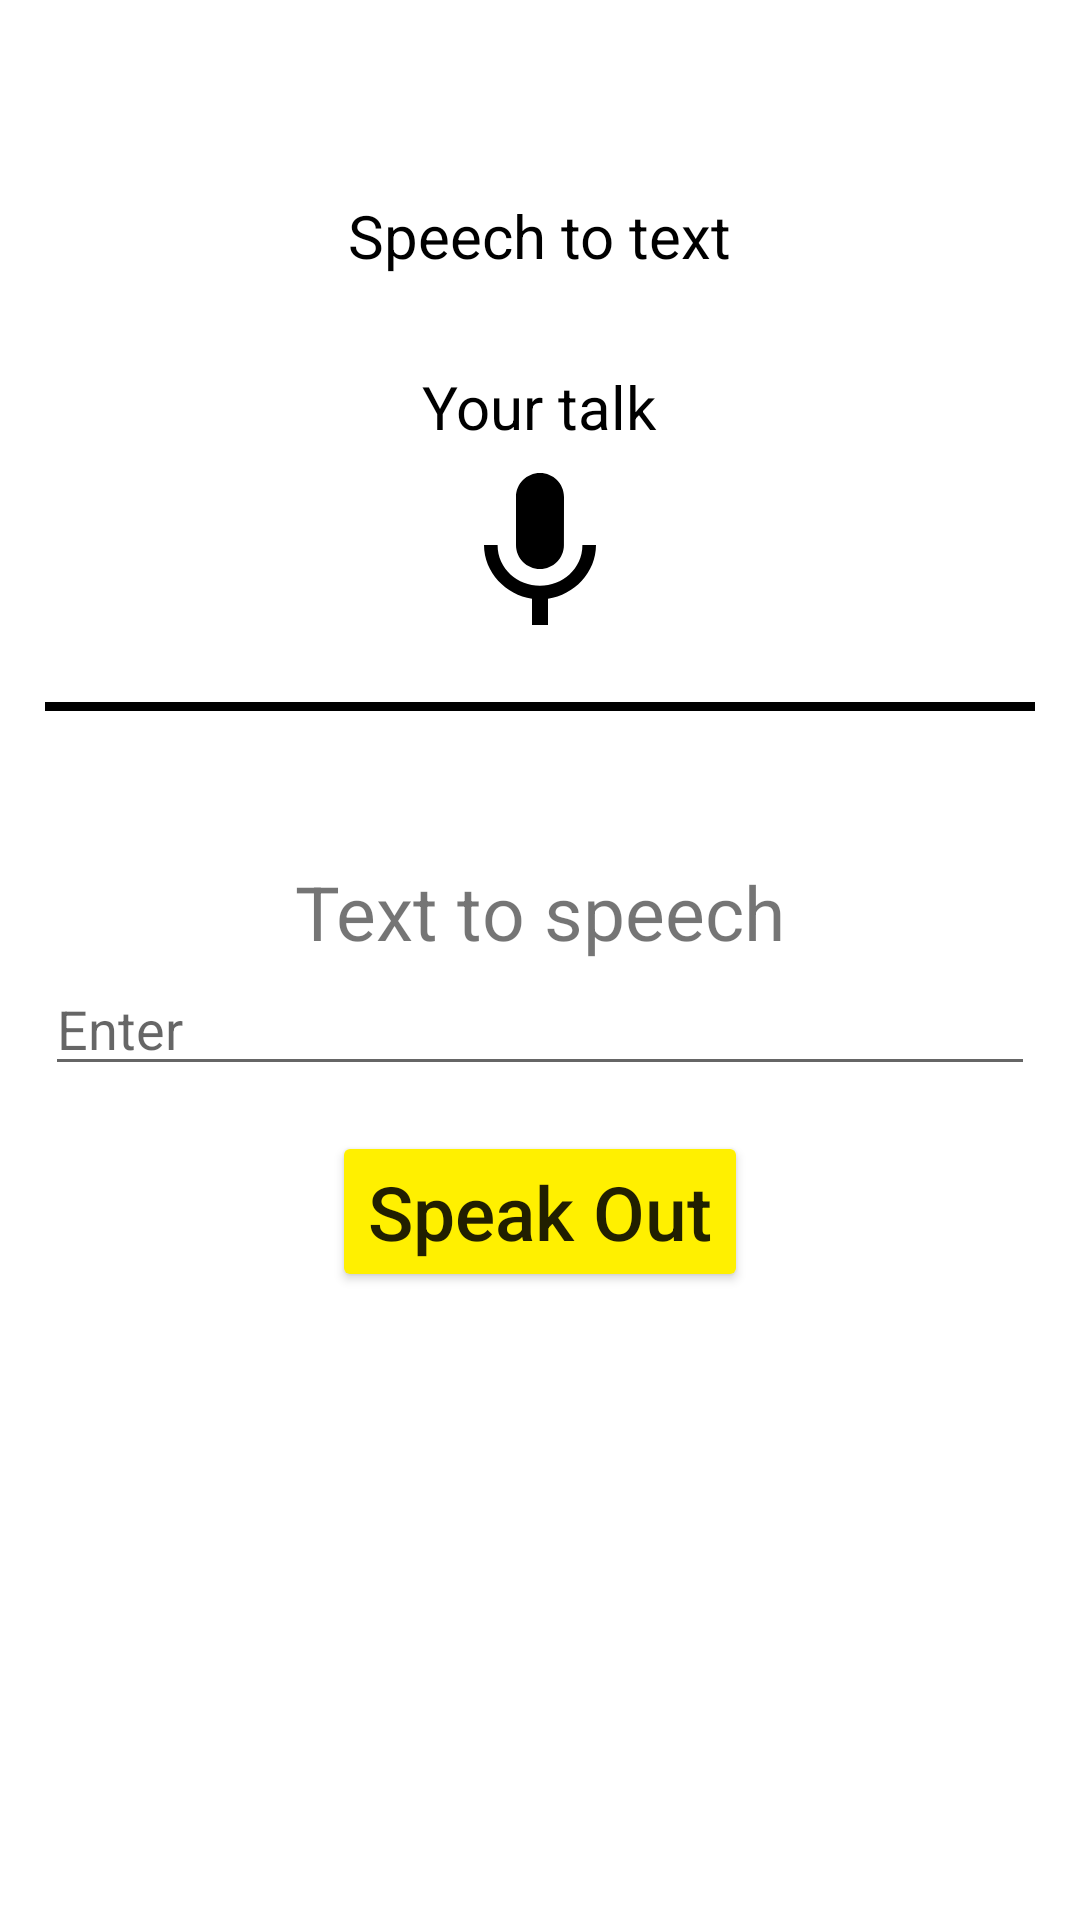

Icons on this 1080×1920 Android screen, each with the point to tap as (x=x, y=y):
keyboard voice: (x=540, y=549)
